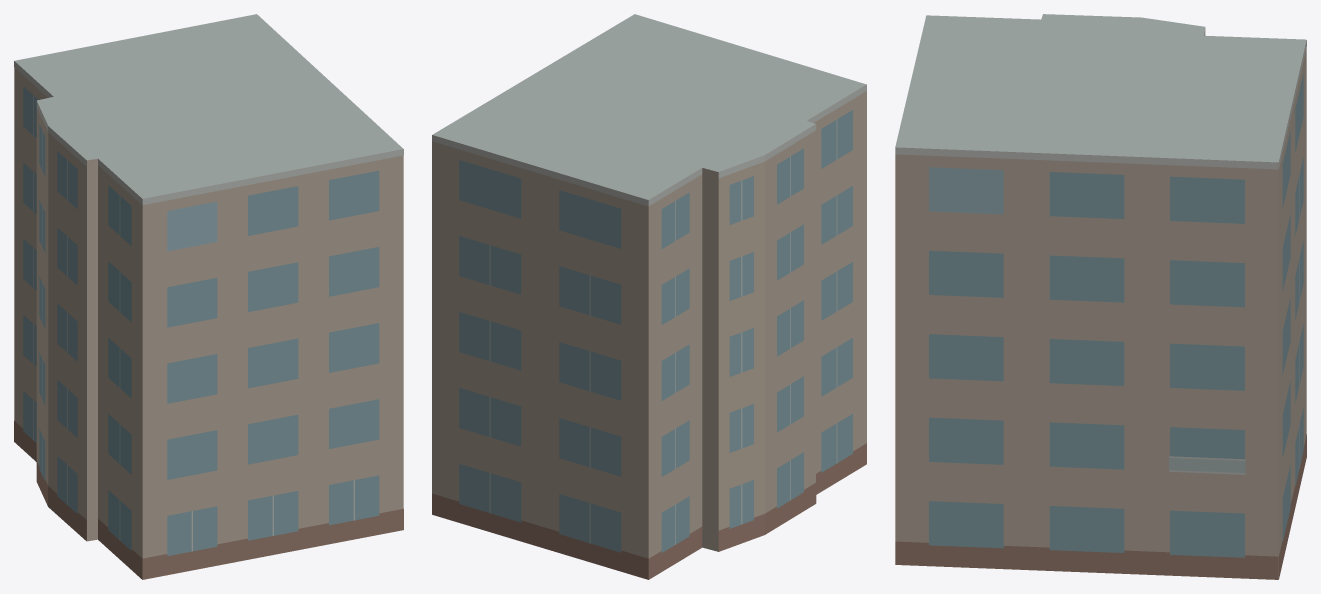
Rendered from survey-upis-32529291.glb.
The picture shows the model from 3 angles, left to right: view 1: azimuth 30°, elevation 25°; view 2: azimuth 150°, elevation 25°; view 3: azimuth 270°, elevation 25°; orthographic projection. The views are drawn at different scales.
Visible parts, largest first — view 1: survey-upis-32529291.tmp; view 2: survey-upis-32529291.tmp; view 3: survey-upis-32529291.tmp.
Part boxes in pixels (left/top/right/bottom): survey-upis-32529291.tmp: left=14, top=14, right=403, bottom=579; survey-upis-32529291.tmp: left=432, top=14, right=866, bottom=579; survey-upis-32529291.tmp: left=895, top=14, right=1306, bottom=579.
Size of the model in its own units: 11.15 by 14.6 by 13.06.
